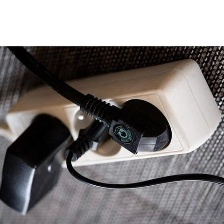three_eye_plug: (3, 53, 223, 177)
